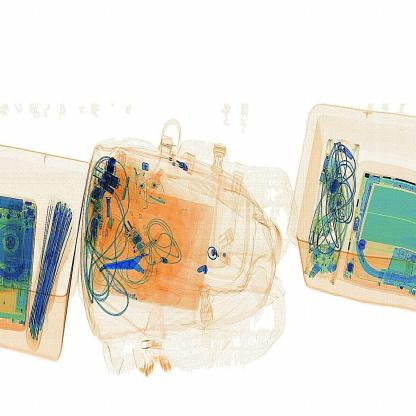gun: (100, 229, 176, 290)
